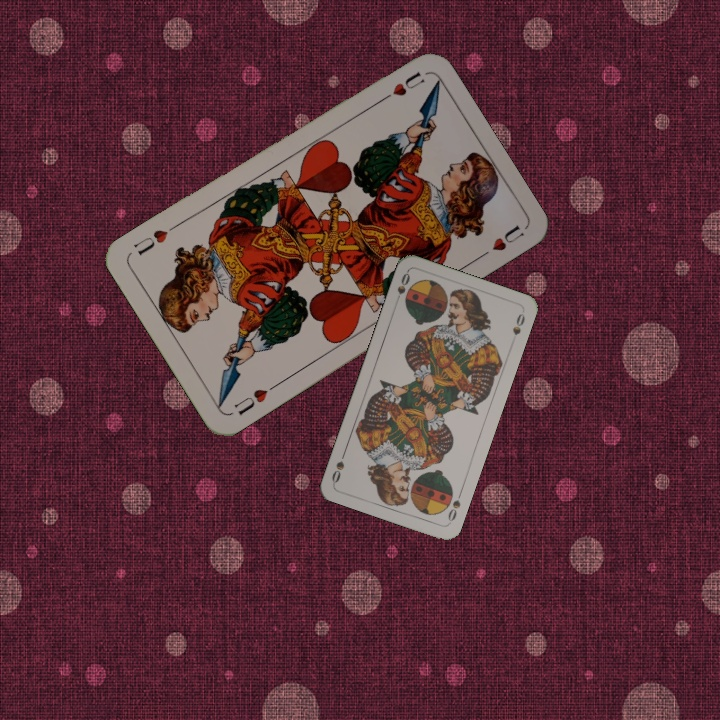HU: (374, 67, 427, 106), (229, 379, 280, 418)
SO: (391, 268, 413, 307), (444, 487, 465, 526)
